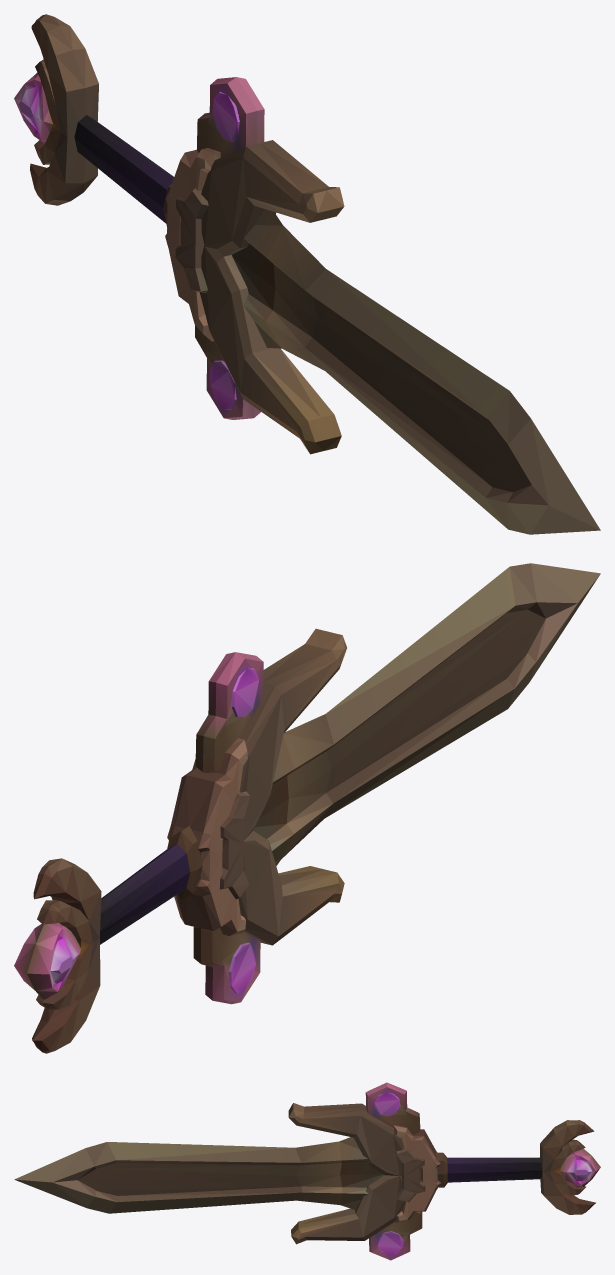
Rendered from weapon_sword_bronze_5.fbx.
3 views of the same model, one above another, from view 1: azimuth 30°, elevation 25°; view 2: azimuth 150°, elevation 25°; view 3: azimuth 270°, elevation 25° (orthographic). The views are drawn at different scales.
Visible parts, largest first — view 1: weapon_sword_bronze_5; view 2: weapon_sword_bronze_5; view 3: weapon_sword_bronze_5.
Boxes of the visible parts, <box> form: weapon_sword_bronze_5: <box>14,14,600,534</box>; weapon_sword_bronze_5: <box>14,563,600,1053</box>; weapon_sword_bronze_5: <box>14,1082,600,1260</box>.
Bounding box in the file's own units: 0.1205 × 0.8603 × 2.58.
